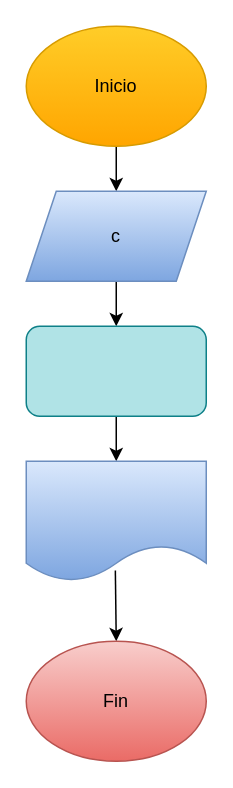
This 233x788 diagram has some shape labels left out. Each missing label, with the box of its shape:
f,k: (25, 460, 206, 581)
k = c + 273.15 f = 1.8*c+32: (25, 325, 206, 416)
